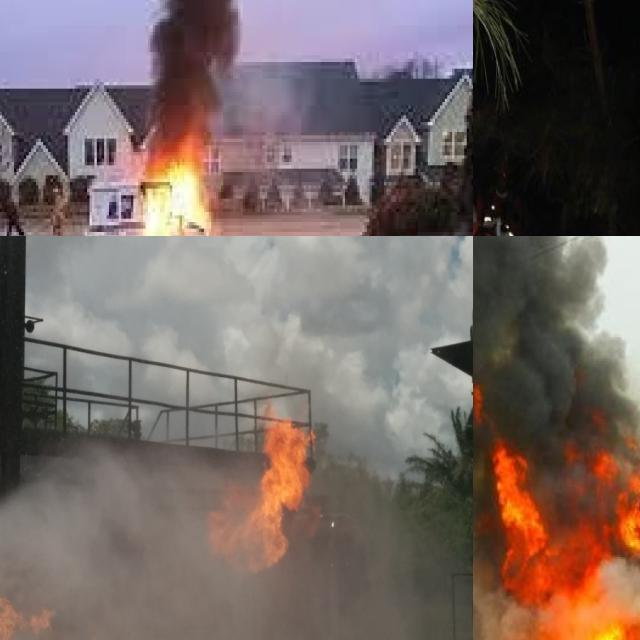fire: (477, 401, 640, 640), (205, 398, 314, 580), (131, 145, 231, 236), (0, 584, 114, 640)
smoke: (0, 448, 471, 640), (473, 236, 633, 468), (133, 0, 281, 172)
